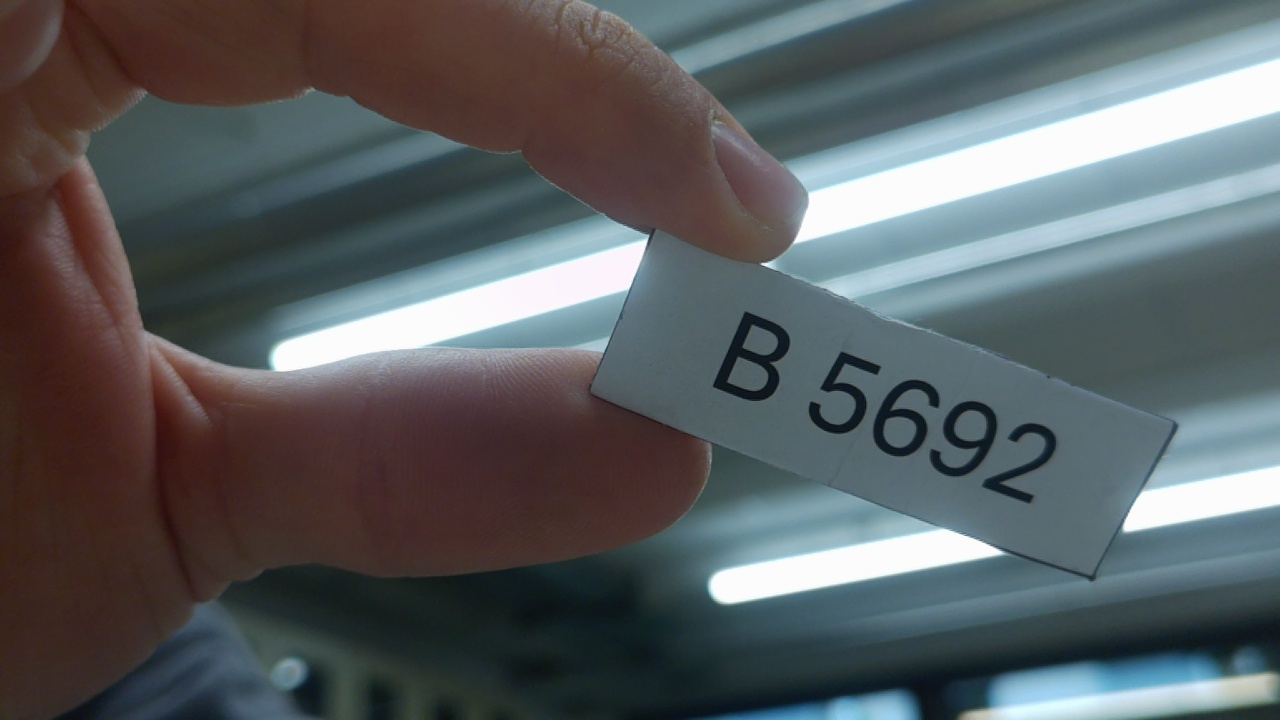license_plate: (574, 217, 1185, 598)
